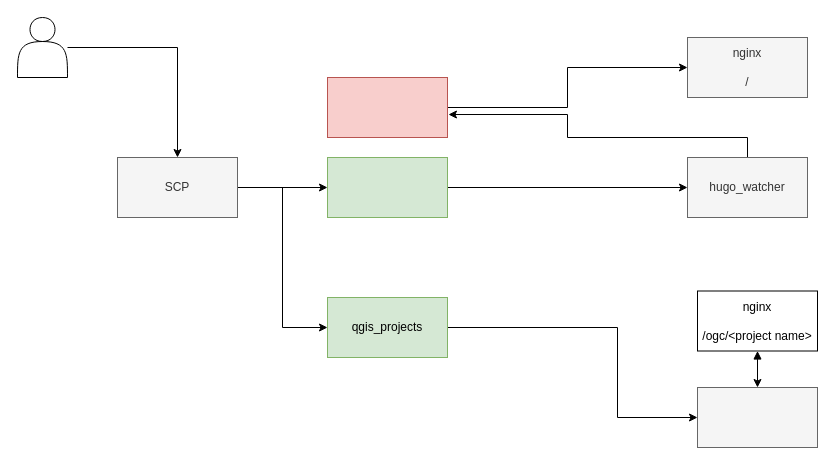
This 835x465 diagram has some shape labels left out. Each missing label, with the box of its shape:
generated_hugo_data: (326, 76, 448, 138)
hugo_data: (326, 156, 448, 218)
qgis-server: (696, 386, 818, 448)
